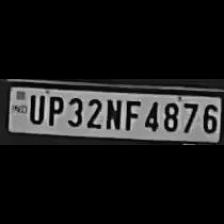2: (83, 95, 103, 129)
3: (64, 93, 82, 126)
4: (140, 97, 160, 131)
6: (198, 99, 218, 133)
7: (179, 99, 197, 133)
8: (160, 98, 180, 132)
F: (122, 97, 140, 130)
N: (102, 96, 122, 130)
P: (44, 92, 64, 125)
U: (24, 92, 43, 124)
